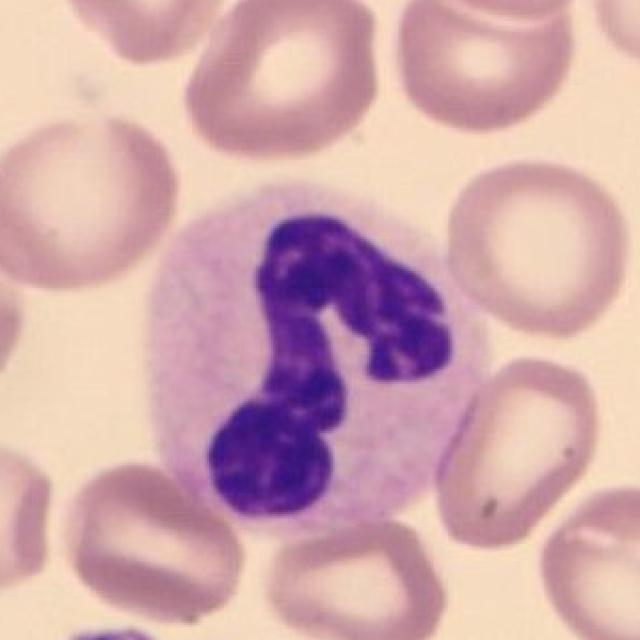WBC: (128, 164, 514, 553)
